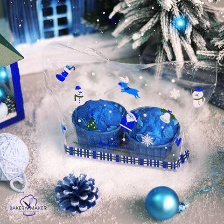snack: (32, 33, 222, 178)
